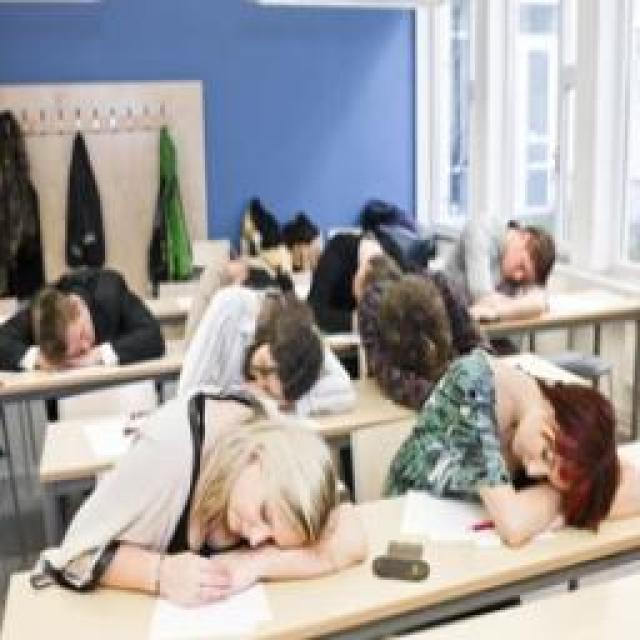sleep: (48, 387, 370, 595), (395, 348, 617, 542), (170, 288, 352, 418), (0, 265, 162, 370), (360, 272, 490, 380), (438, 217, 548, 325), (308, 223, 422, 325)
